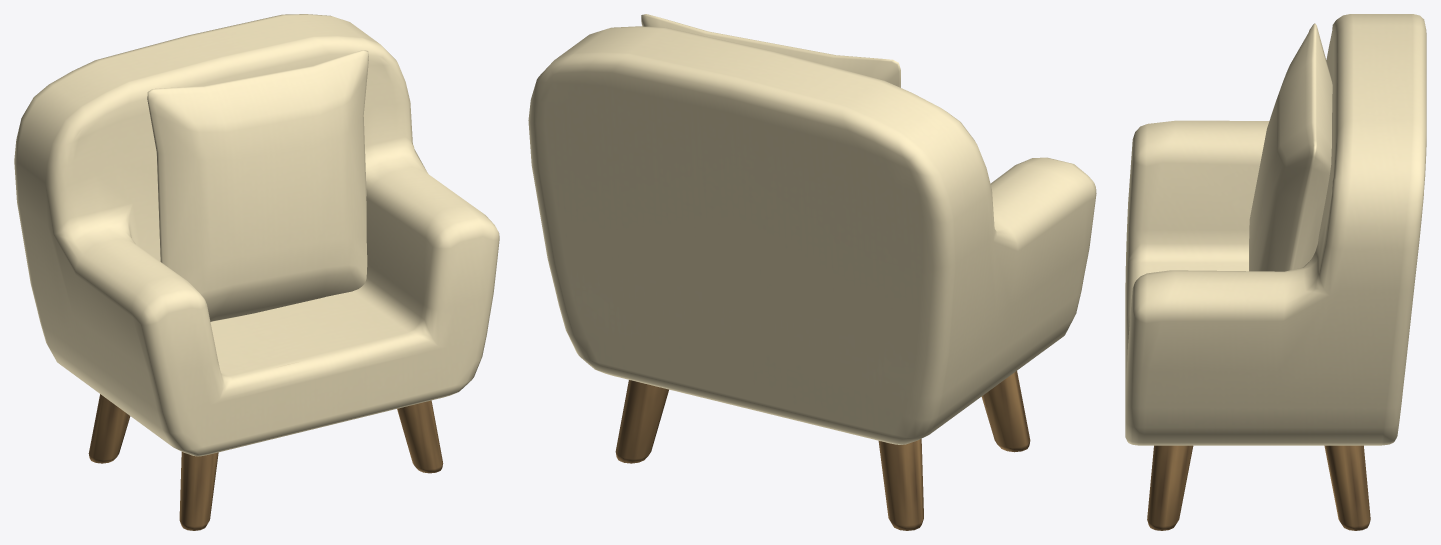
The model's file is sofa.glb.
The picture shows the model from 3 angles, left to right: view 1: azimuth 30°, elevation 25°; view 2: azimuth 150°, elevation 25°; view 3: azimuth 270°, elevation 25°; orthographic projection. The views are drawn at different scales.
Visible parts, largest first — view 1: sofa, cushion, sofa_legs; view 2: sofa, sofa_legs, cushion; view 3: sofa, cushion, sofa_legs.
Boxes of the visible parts, x1,y1,x2,y2 form: sofa: (14,14,499,456); cushion: (147,50,368,321); sofa_legs: (88,394,443,530); sofa: (528,26,1096,444); sofa_legs: (615,371,1030,530); cushion: (641,14,900,87); sofa: (1125,14,1426,445); cushion: (1249,23,1332,271); sofa_legs: (1147,445,1370,530).
Bounding box in the file's own units: 2.71 × 2.7 × 1.86.
3 materials, 3 textured.
